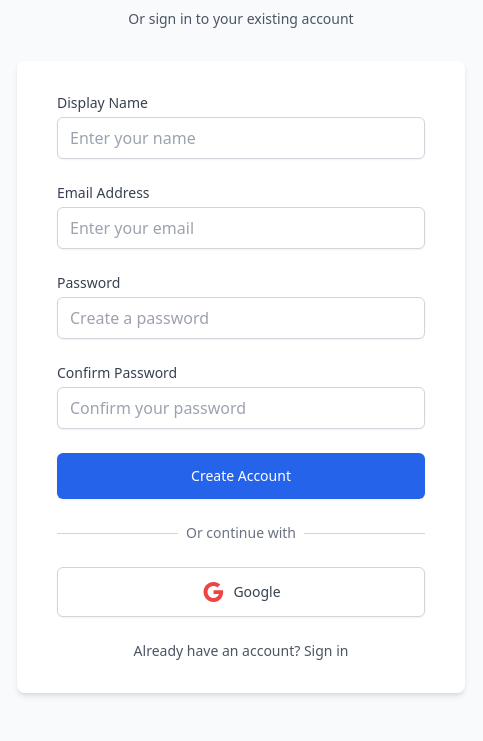
it: Signup page › shows error when Google signup fails
(page scrolled)
Step 1. Click the button "Google" → (241, 592), box [57,567,425,617]
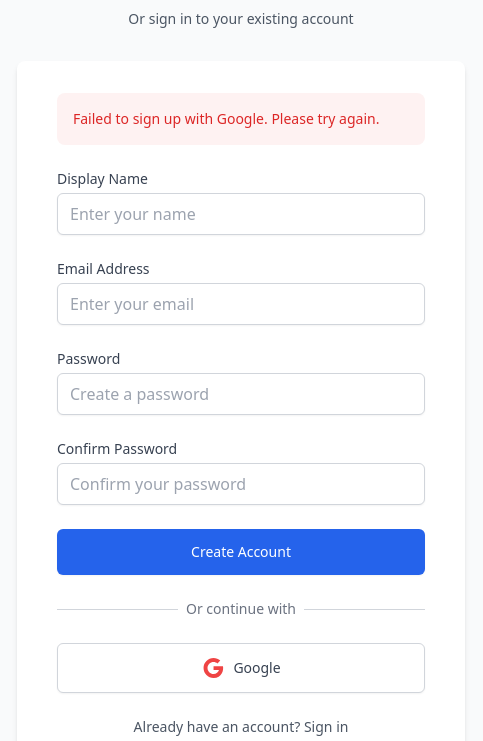
Expected: the button "Google" is enabled, [57,643,425,693]
Expected: the text "Failed to sign up with Google. Please try again." is shown, [73,109,409,129]
